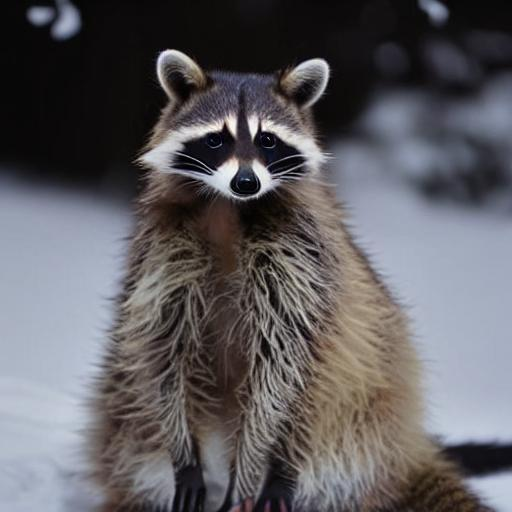raccoon: (97, 39, 497, 512)
